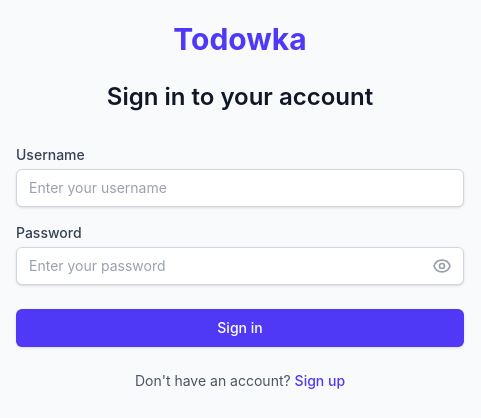
Scenario: Login › validation › shows validation error when password is empty
Type "testuser" into the field labelled "Username" at x=240, y=188, box [16, 169, 464, 207]
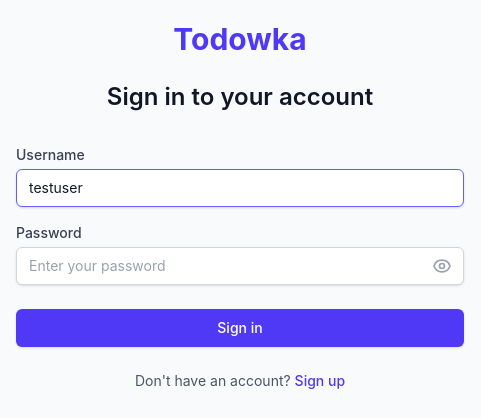
Click the button "Sign in" at x=240, y=328, box [16, 309, 464, 347]
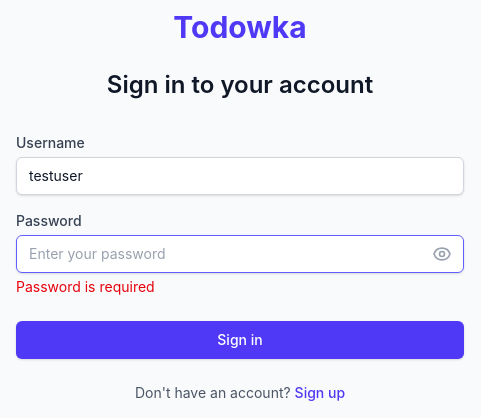
Result: the text "Password is required" is shown at [16, 278, 155, 295]
